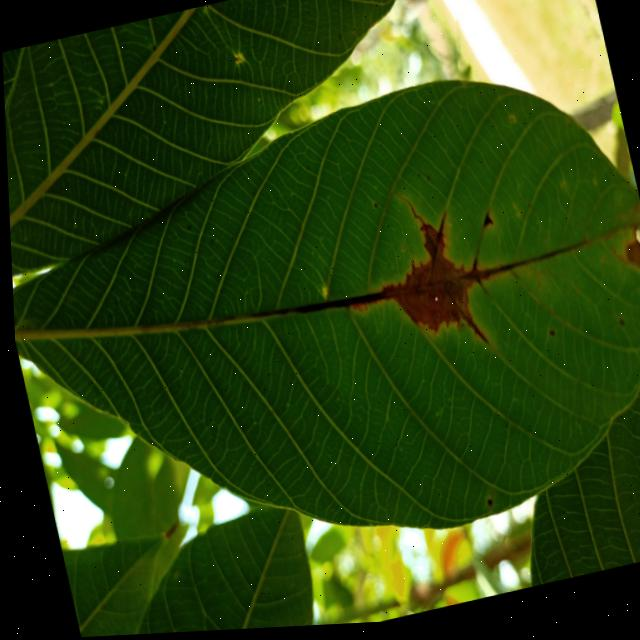Colletotrichum: (480, 503, 488, 512)
Corynespora: (465, 239, 581, 297), (245, 287, 381, 333), (458, 216, 500, 279), (419, 218, 452, 268), (391, 191, 423, 236), (457, 312, 484, 352)
Leaf-Blight: (369, 225, 477, 345), (619, 246, 640, 279)
